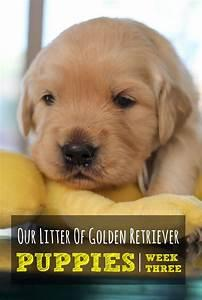dog: (4, 12, 202, 206)
